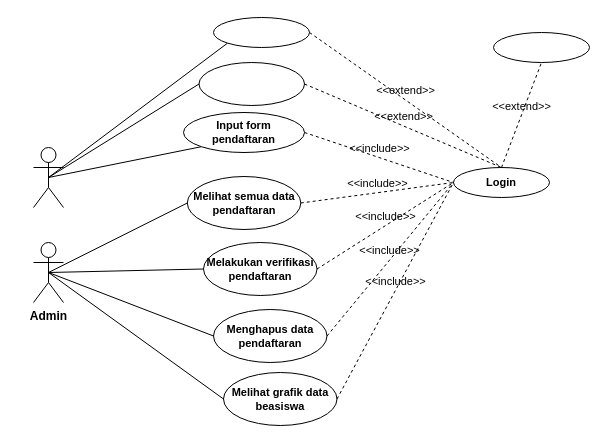
Some shapes in this 607 by 443 pixel diagram are drawn without their labels. Each missing label, with the centre of its shape:
"Logout" belongs at point 541,47.
"Mahasiswa" belongs at point 48,177.
"Melihat hasil pendaftaran" belongs at point 251,84.
"Melihat home" belongs at point 261,32.
